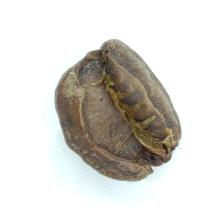NG: (70, 46, 166, 171)
